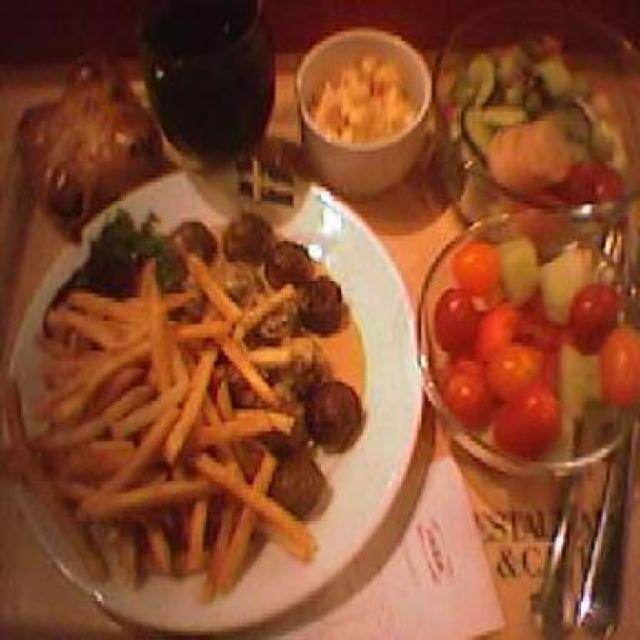French fries: (26, 211, 352, 591)
